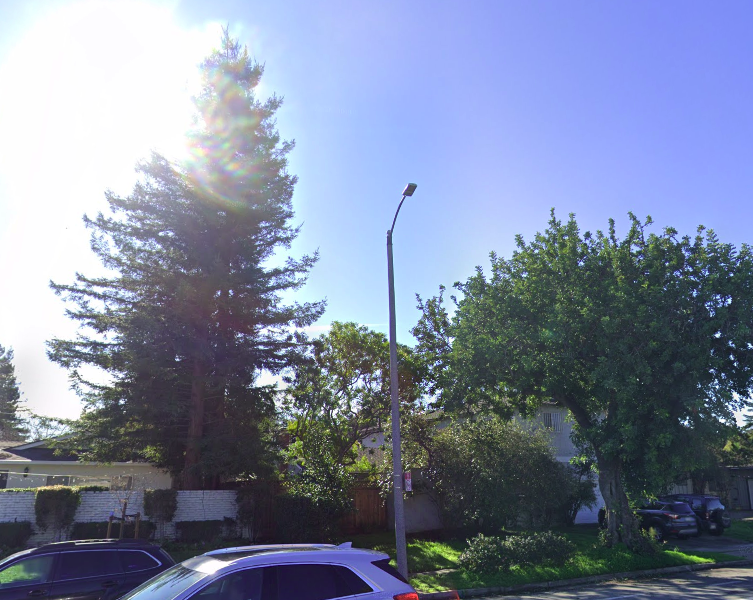pole: (378, 177, 423, 287)
